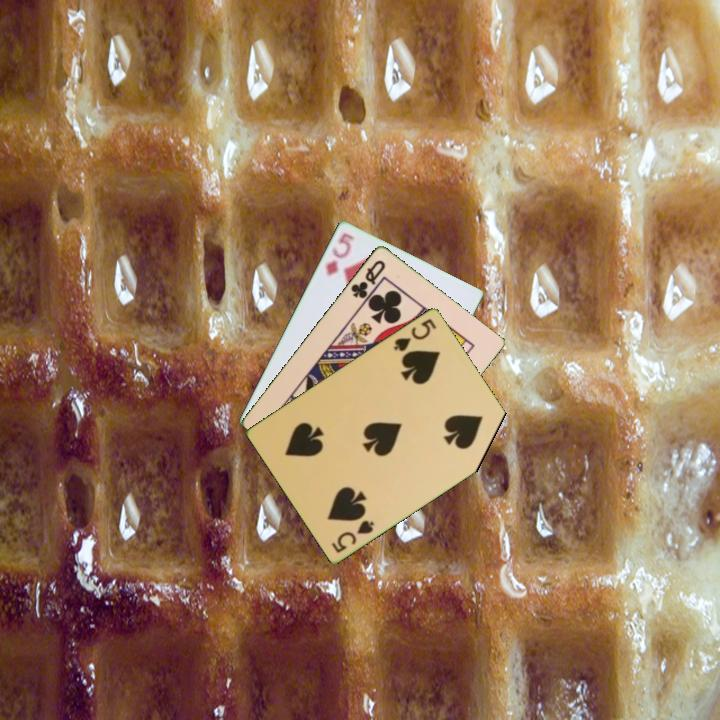5d: (322, 229, 358, 279)
5s: (390, 314, 439, 354), (328, 516, 377, 556)
Qc: (347, 256, 388, 301)
